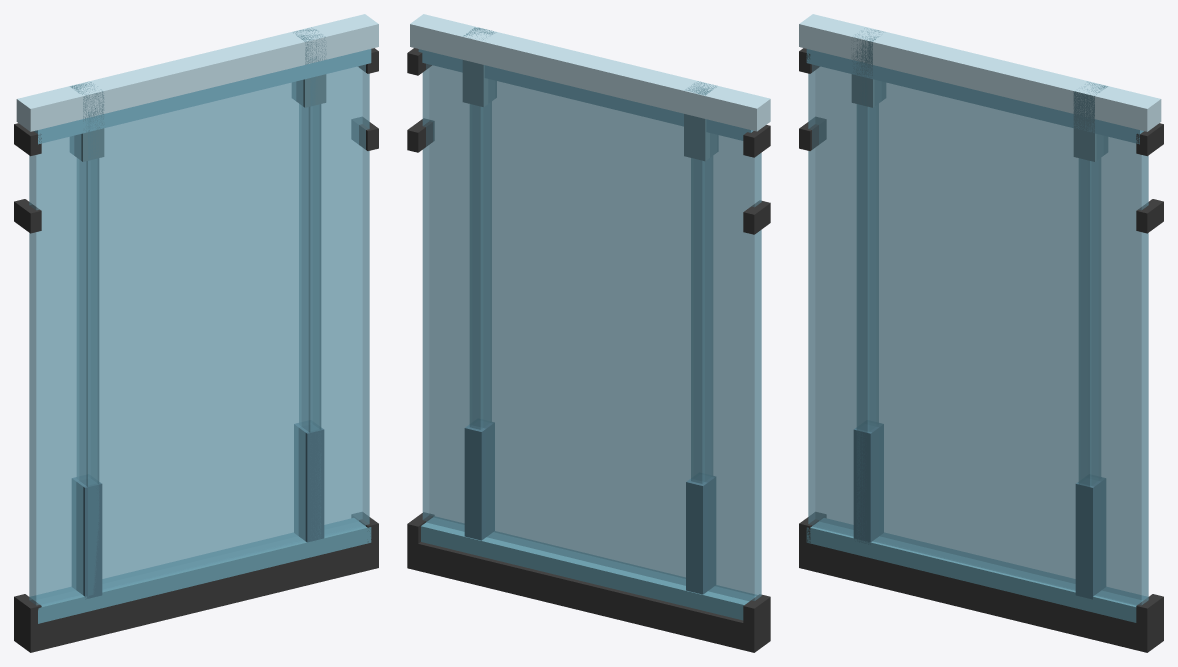
Rendered from CMU3DUltraDirectionalWindow.glb.
The picture shows the model from 3 angles, left to right: view 1: azimuth 30°, elevation 25°; view 2: azimuth 150°, elevation 25°; view 3: azimuth 330°, elevation 25°; orthographic projection.
Visible parts, largest first — view 1: Ultra pane, Pale upper rim, Dark bottom anchoring strip, Blue sill gasket, West reinforcing rail, East reinforcing rail, Upper blue gasket, West lower rail shoe, East lower rail shoe, West upper rail shoe, East upper rail shoe, West edge clip 1.5 (+3 smaller); view 2: Ultra pane, Pale upper rim, Dark bottom anchoring strip, Blue sill gasket, East reinforcing rail, West reinforcing rail, Upper blue gasket, East lower rail shoe, West lower rail shoe, West upper rail shoe, East upper rail shoe, West edge clip 1.5 (+3 smaller); view 3: Ultra pane, Pale upper rim, Dark bottom anchoring strip, Blue sill gasket, West reinforcing rail, East reinforcing rail, Upper blue gasket, East lower rail shoe, West lower rail shoe, East upper rail shoe, West upper rail shoe, East edge clip 1.5 (+3 smaller).
Part boxes in pixels (x1,y1,x2,y2): Ultra pane: [29, 64, 369, 605]; Pale upper rim: [16, 14, 378, 131]; Dark bottom anchoring strip: [14, 541, 378, 652]; Blue sill gasket: [30, 518, 371, 623]; West reinforcing rail: [77, 112, 99, 595]; East reinforcing rail: [299, 57, 321, 539]; Upper blue gasket: [34, 49, 371, 144]; West lower rail shoe: [72, 477, 102, 599]; East lower rail shoe: [294, 423, 324, 542]; West upper rail shoe: [70, 82, 104, 161]; East upper rail shoe: [292, 27, 326, 107]; West edge clip 1.5: [14, 199, 41, 233]; Ultra pane: [422, 64, 761, 601]; Pale upper rim: [410, 14, 770, 131]; Dark bottom anchoring strip: [407, 541, 770, 652]; Blue sill gasket: [421, 516, 757, 620]; East reinforcing rail: [469, 102, 491, 429]; West reinforcing rail: [691, 156, 712, 483]; Upper blue gasket: [418, 49, 753, 140]; East lower rail shoe: [464, 420, 494, 540]; West lower rail shoe: [686, 474, 715, 594]; West upper rail shoe: [684, 81, 718, 161]; East upper rail shoe: [462, 27, 496, 107]; West edge clip 1.5: [743, 200, 770, 234]; Ultra pane: [808, 64, 1148, 605]; Pale upper rim: [799, 14, 1161, 131]; Dark bottom anchoring strip: [799, 541, 1163, 652]; Blue sill gasket: [806, 518, 1147, 622]; West reinforcing rail: [856, 60, 878, 539]; East reinforcing rail: [1078, 158, 1100, 486]; Upper blue gasket: [806, 49, 1143, 144]; East lower rail shoe: [1075, 477, 1105, 599]; West lower rail shoe: [853, 423, 883, 544]; East upper rail shoe: [1073, 81, 1107, 161]; West upper rail shoe: [851, 28, 885, 107]; East edge clip 1.5: [1136, 199, 1163, 233].
Size of the model in its own units: 0.98 by 1.46 by 0.08.
